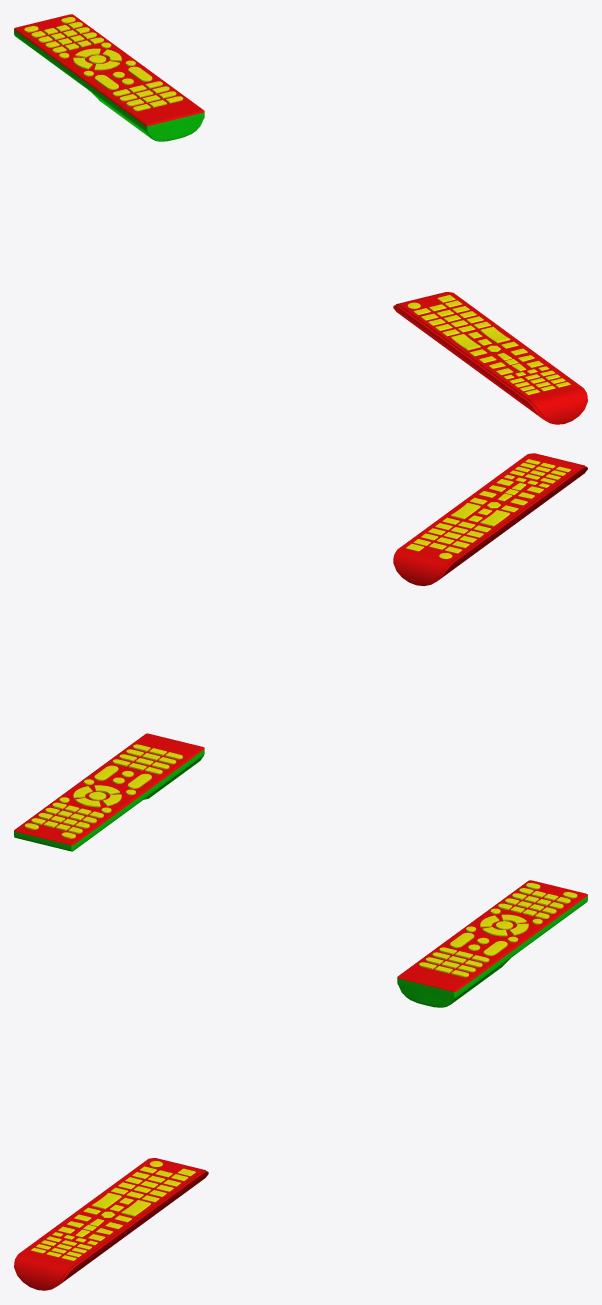
Rendered from thorkea_remotes_grp.fbx.
3 renders of one model, top to bottom at view 1: azimuth 30°, elevation 25°; view 2: azimuth 150°, elevation 25°; view 3: azimuth 330°, elevation 25°, orthographic.
Visible parts, largest first — view 1: thorkea_remote_ge, thorkea_remote_coolux; view 2: thorkea_remote_coolux, thorkea_remote_ge; view 3: thorkea_remote_ge, thorkea_remote_coolux.
Part boxes in pixels (x1,y1,x2,y2): thorkea_remote_ge: (14, 14, 204, 141); thorkea_remote_coolux: (393, 292, 587, 424); thorkea_remote_coolux: (393, 453, 587, 585); thorkea_remote_ge: (14, 733, 204, 851); thorkea_remote_ge: (397, 880, 587, 1007); thorkea_remote_coolux: (14, 1158, 208, 1290).
Size of the model in its own units: 4.5 by 1.8 by 68.51.
